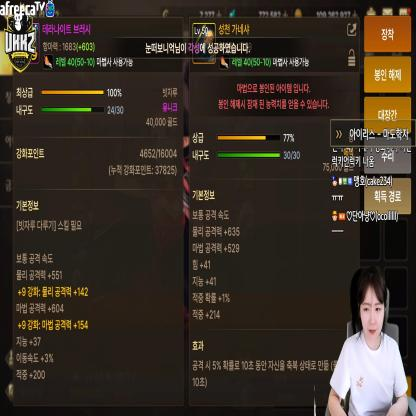streamer: (328, 263, 408, 416)
